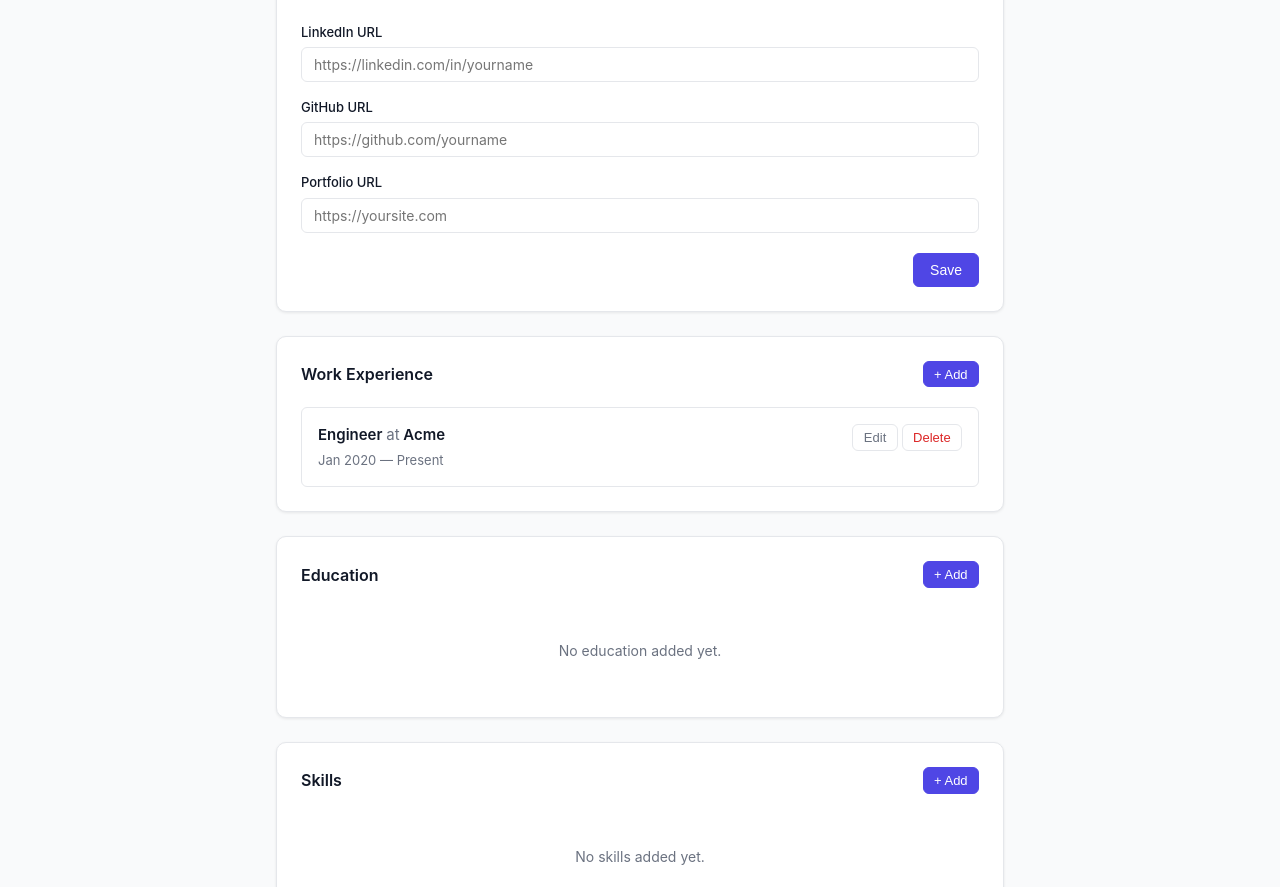
it: ProfileView › shows delete confirmation dialog when Delete is clicked
(page scrolled)
Click the button "Delete" at (932, 438), box [902, 424, 962, 451]
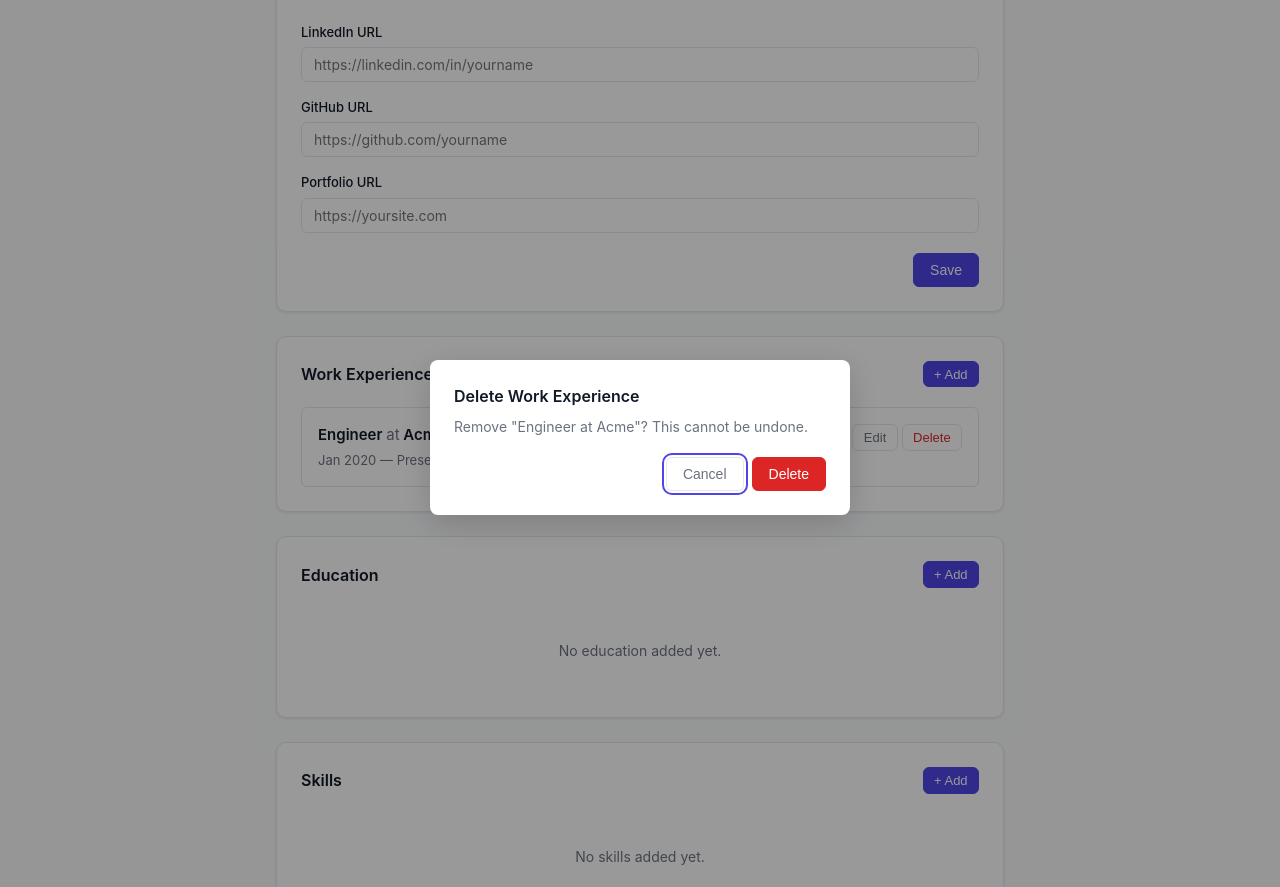
Now the text "Delete Work Experience" is shown, box [454, 386, 640, 406]
